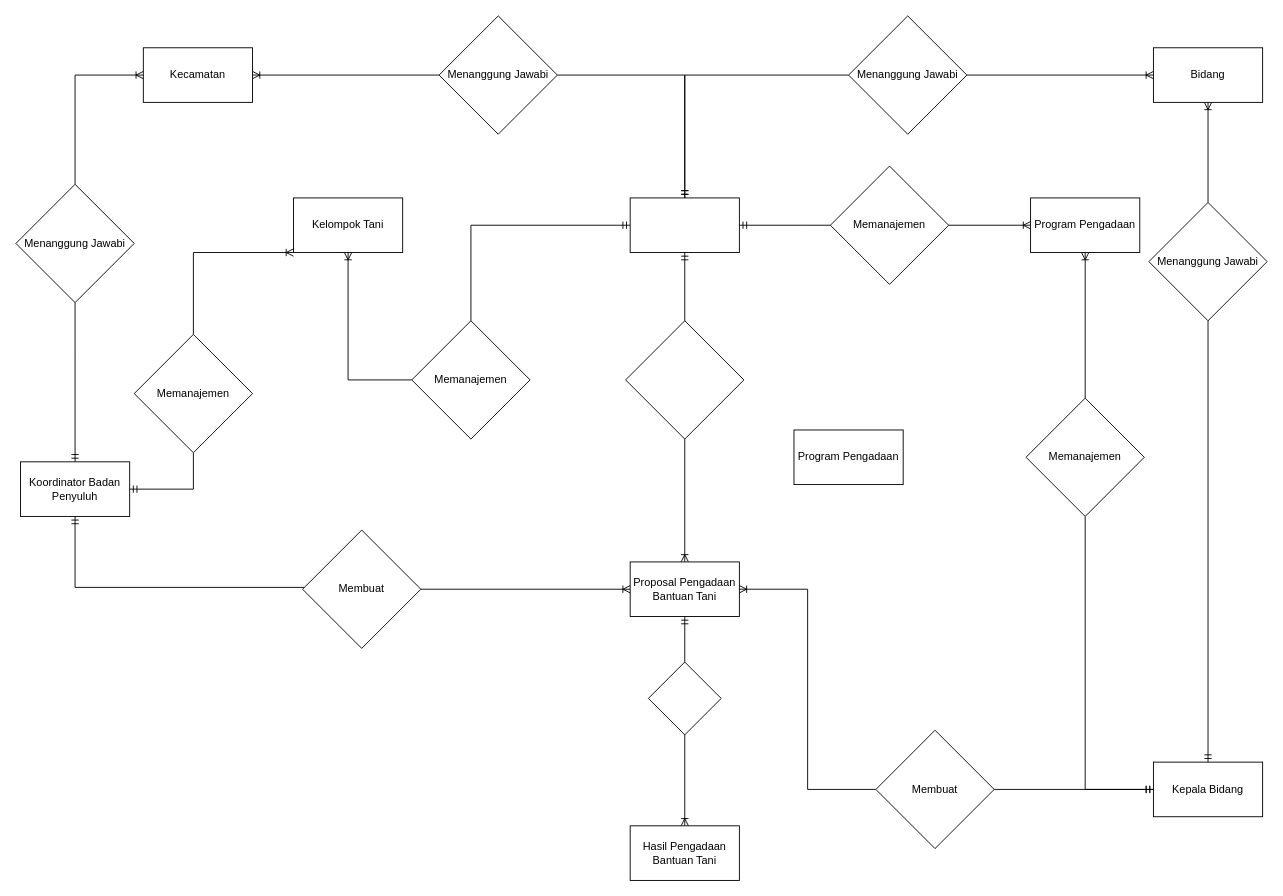
Image size: 1283x896. Some labels were removed from this diagram. Here are the shapes that lost their labels. From the top down, the centre of each, then its label:
At pixel 684 225: "Kepala dinas".
At pixel 684 379: "Menyetujui Pelaksanaan Pengadaan Bantuan Tani".
At pixel 684 698: "Memiliki".
